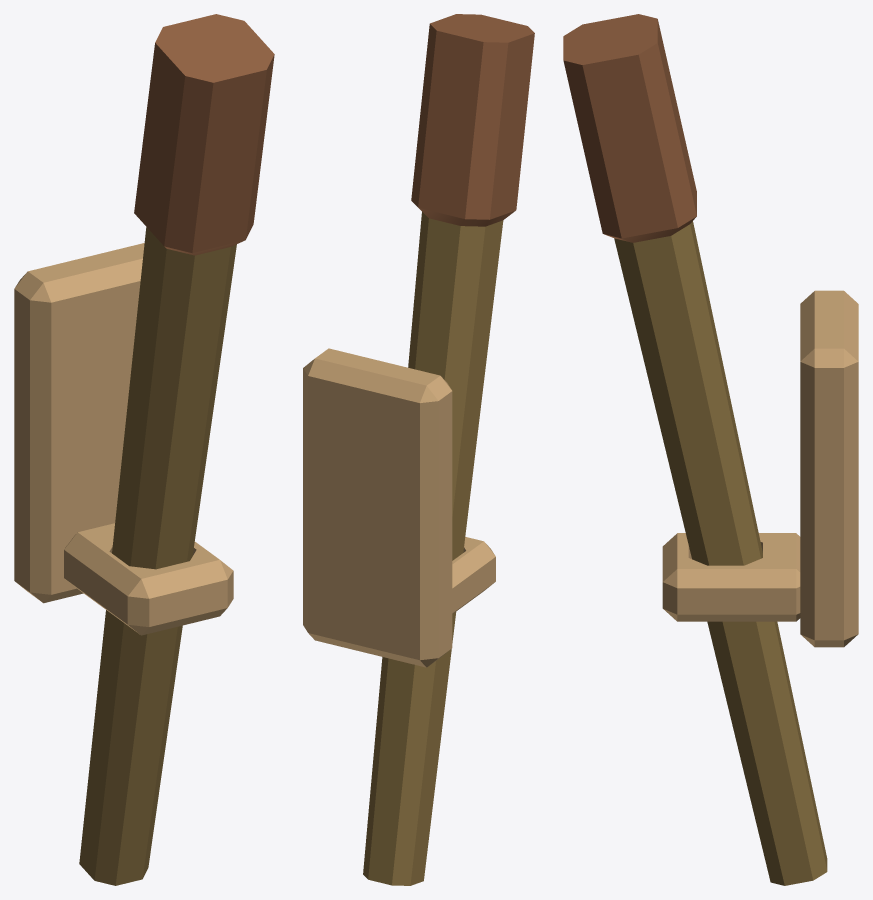
Rendered from mesh_wall_torch.fbx.
3 renders of one model, left to right at view 1: azimuth 30°, elevation 25°; view 2: azimuth 150°, elevation 25°; view 3: azimuth 270°, elevation 25°, orthographic. The views are drawn at different scales.
Parts seen in each view (by area): view 1: wall_torch; view 2: wall_torch; view 3: wall_torch.
Part boxes in pixels (<box>): wall_torch: <box>14,14,274,885</box>; wall_torch: <box>303,14,534,885</box>; wall_torch: <box>563,14,858,885</box>.
Bounding box in the file's own units: 14.67 × 82.44 × 26.08.
Materials: 1 (1 with a texture image).
